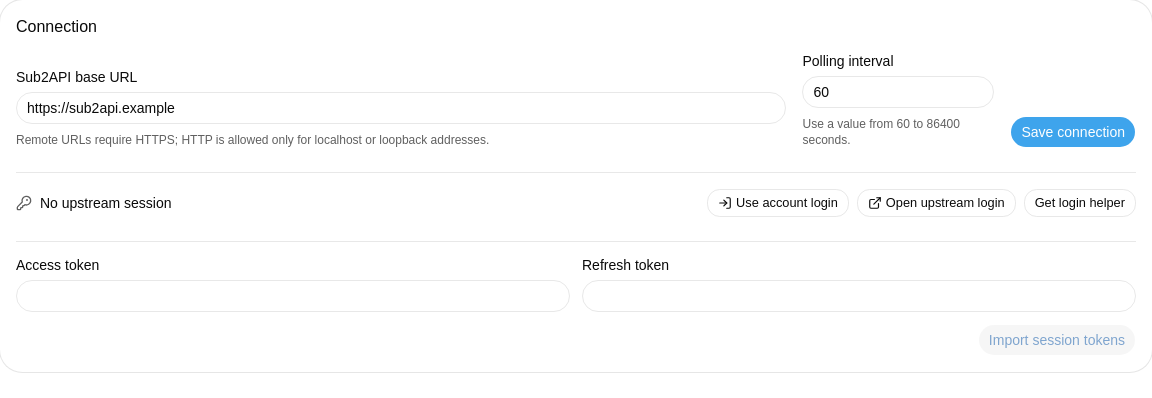
Test: Sub2API connection URL validation › rejects remote HTTP URLs before saving
Replace the text in the field labelled "Sub2API base URL" with "http://sub2api.example" at (401, 108), box [16,92,786,124]
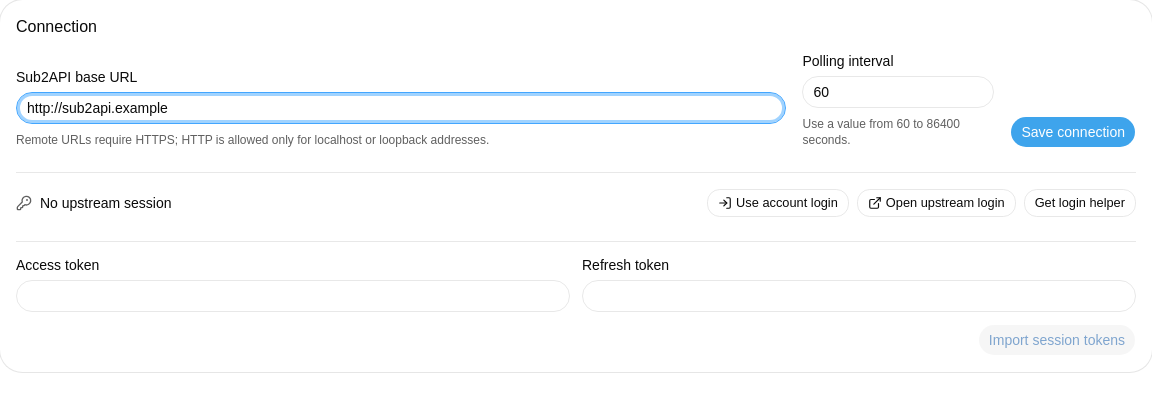
Click the button "Save connection" at (1073, 132), box [1010,116,1136,148]
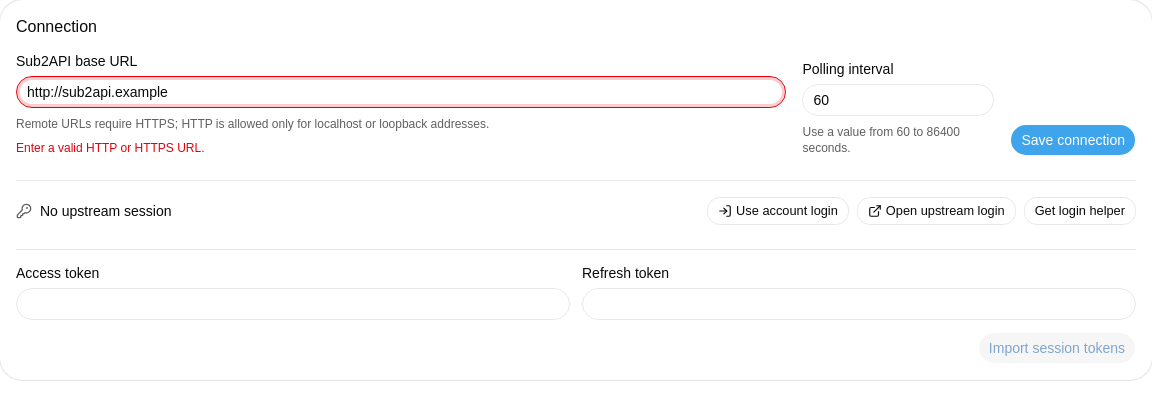
Expected: the text "Remote URLs require HTTPS; HTTP is allowed only for localhost or loopback addresses." is shown, [16,117,489,131]
Now the message reads "Enter a valid HTTP or HTTPS URL.", box [16,141,204,155]
